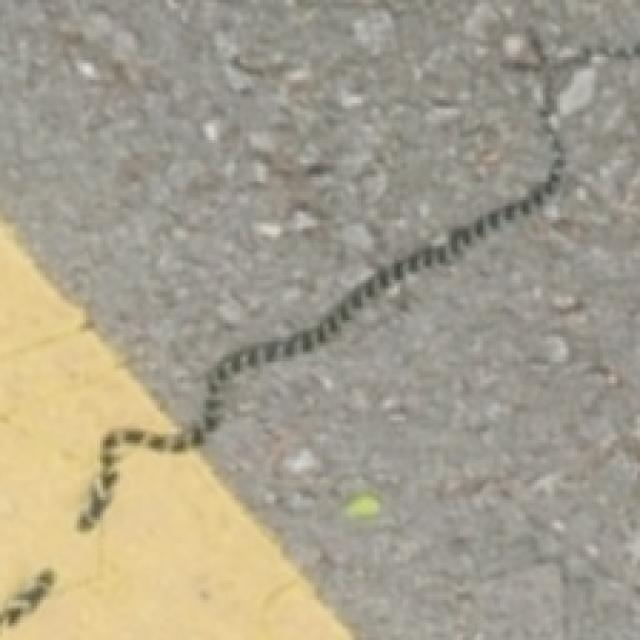king cobra: (77, 140, 560, 529), (0, 34, 551, 371)
